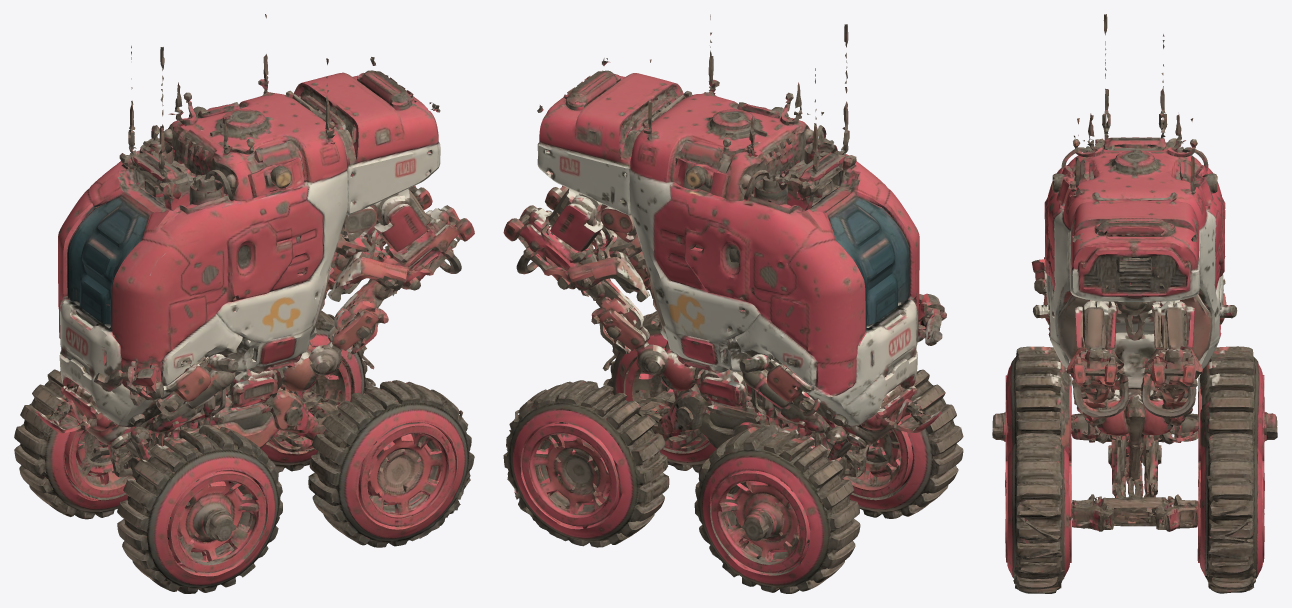
Rendered from mars-rover.glb.
3 views of the same model, side by side, from view 1: azimuth 30°, elevation 25°; view 2: azimuth 150°, elevation 25°; view 3: azimuth 270°, elevation 25° (orthographic). The views are drawn at different scales.
Visible parts, largest first — view 1: output; view 2: output; view 3: output.
Part boxes in pixels (x1=…): output: x1=14, y1=14, x2=474, y2=593; output: x1=503, y1=14, x2=963, y2=593; output: x1=992, y1=14, x2=1277, y2=593.
Bounding box in the file's own units: 12.71 × 15.58 × 8.38.
1 material, 1 textured.
